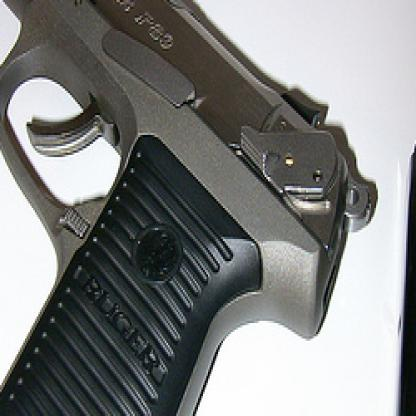gun: (0, 0, 388, 414)
